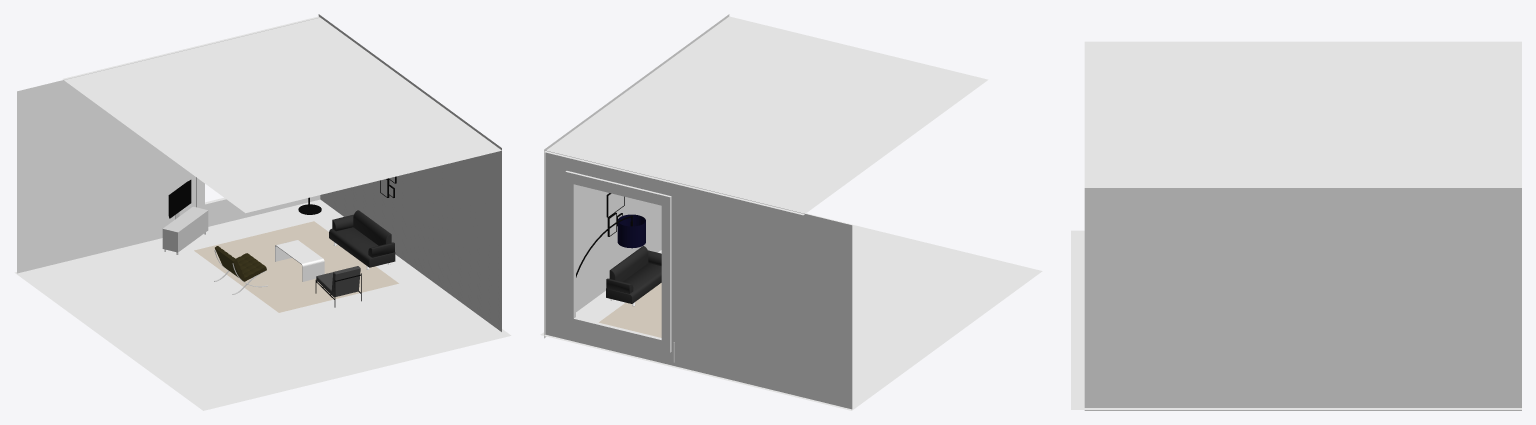
File: myroom.glb
3 renders of one model, left to right at view 1: azimuth 30°, elevation 25°; view 2: azimuth 150°, elevation 25°; view 3: azimuth 270°, elevation 25°, orthographic. The views are drawn at different scales.
Visible parts, largest first — view 1: wall.002, Cube.006, wall, wall.001, Plane, Cube.012, TVBoard, Cube.004, Cube.001, TV, Cube.003, Cube.013 (+1 smaller); view 2: wall.002, wall, Cube.006, wall.001, Cube.003, Cube.012, Plane, Cylinder.013, Cube.013; view 3: wall.001, wall.002, Cube.006.
Part boxes in pixels (<box>): wall.002: <box>62,16,501,213</box>; Cube.006: <box>14,199,511,410</box>; wall: <box>17,17,320,273</box>; wall.001: <box>318,14,501,331</box>; Plane: <box>194,221,398,312</box>; Cube.012: <box>329,210,395,267</box>; TVBoard: <box>162,206,208,252</box>; Cube.004: <box>275,240,324,281</box>; Cube.001: <box>331,266,360,297</box>; TV: <box>168,180,191,218</box>; Cube.003: <box>196,177,236,213</box>; Cube.013: <box>332,214,394,257</box>; wall.002: <box>544,16,988,215</box>; wall: <box>545,150,852,409</box>; Cube.006: <box>540,213,1042,410</box>; wall.001: <box>544,14,729,338</box>; Cube.003: <box>565,171,671,352</box>; Cube.012: <box>606,246,661,303</box>; Plane: <box>599,283,661,337</box>; Cylinder.013: <box>617,214,645,248</box>; Cube.013: <box>606,250,661,293</box>; wall.001: <box>1084,188,1521,410</box>; wall.002: <box>1084,41,1521,187</box>; Cube.006: <box>1071,230,1521,409</box>.
Bounding box in the file's own units: 7.04 × 4.08 × 7.48.
